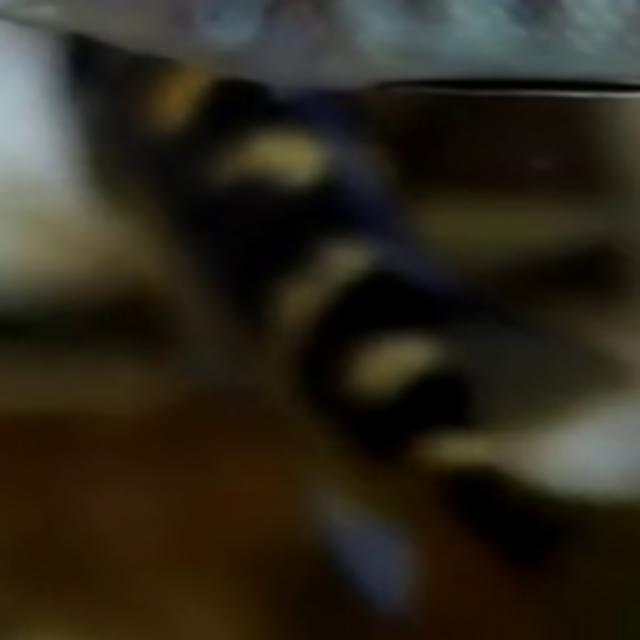fish: (3, 2, 640, 639)
